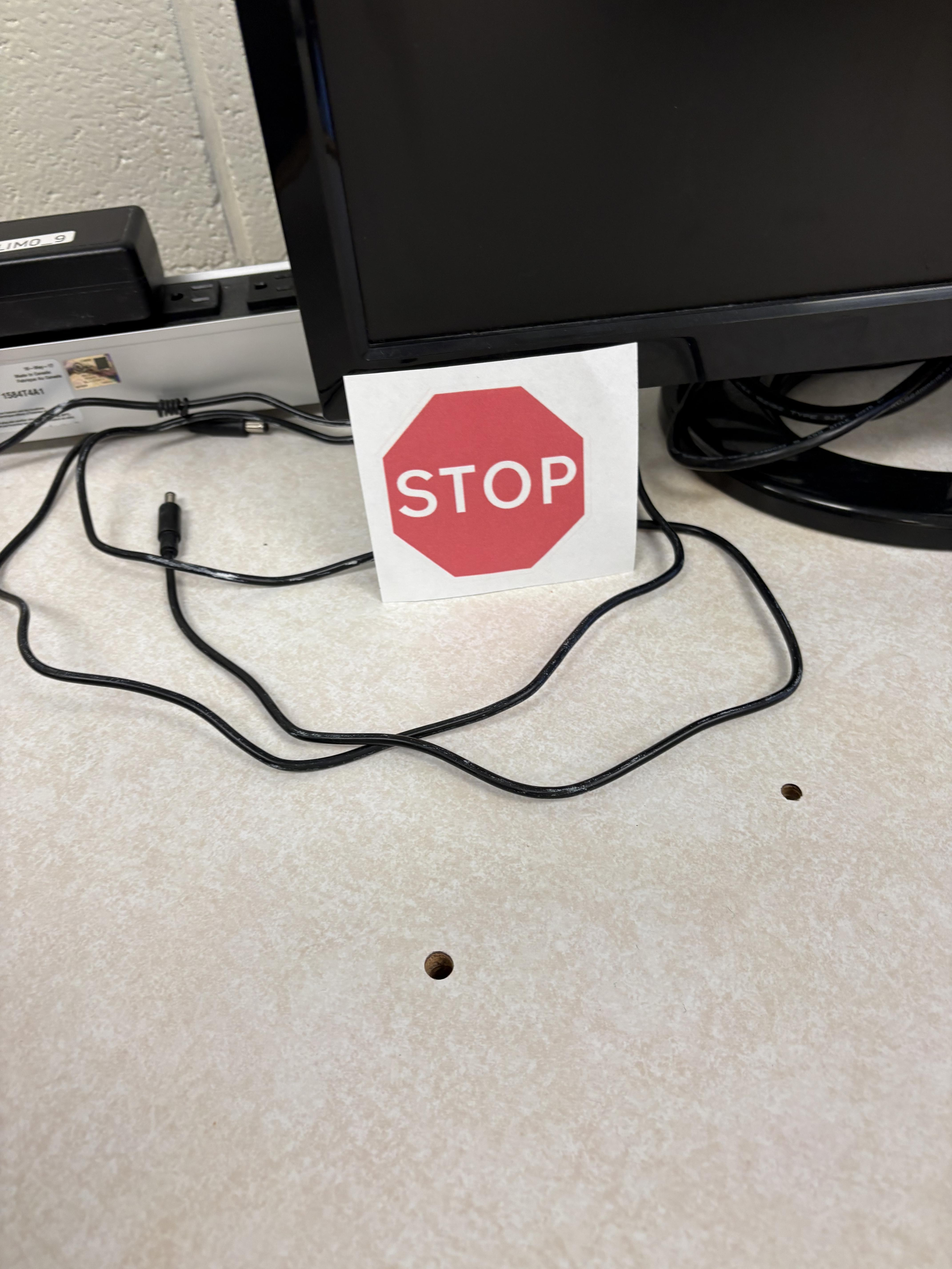Stop: (259, 455, 484, 817)
